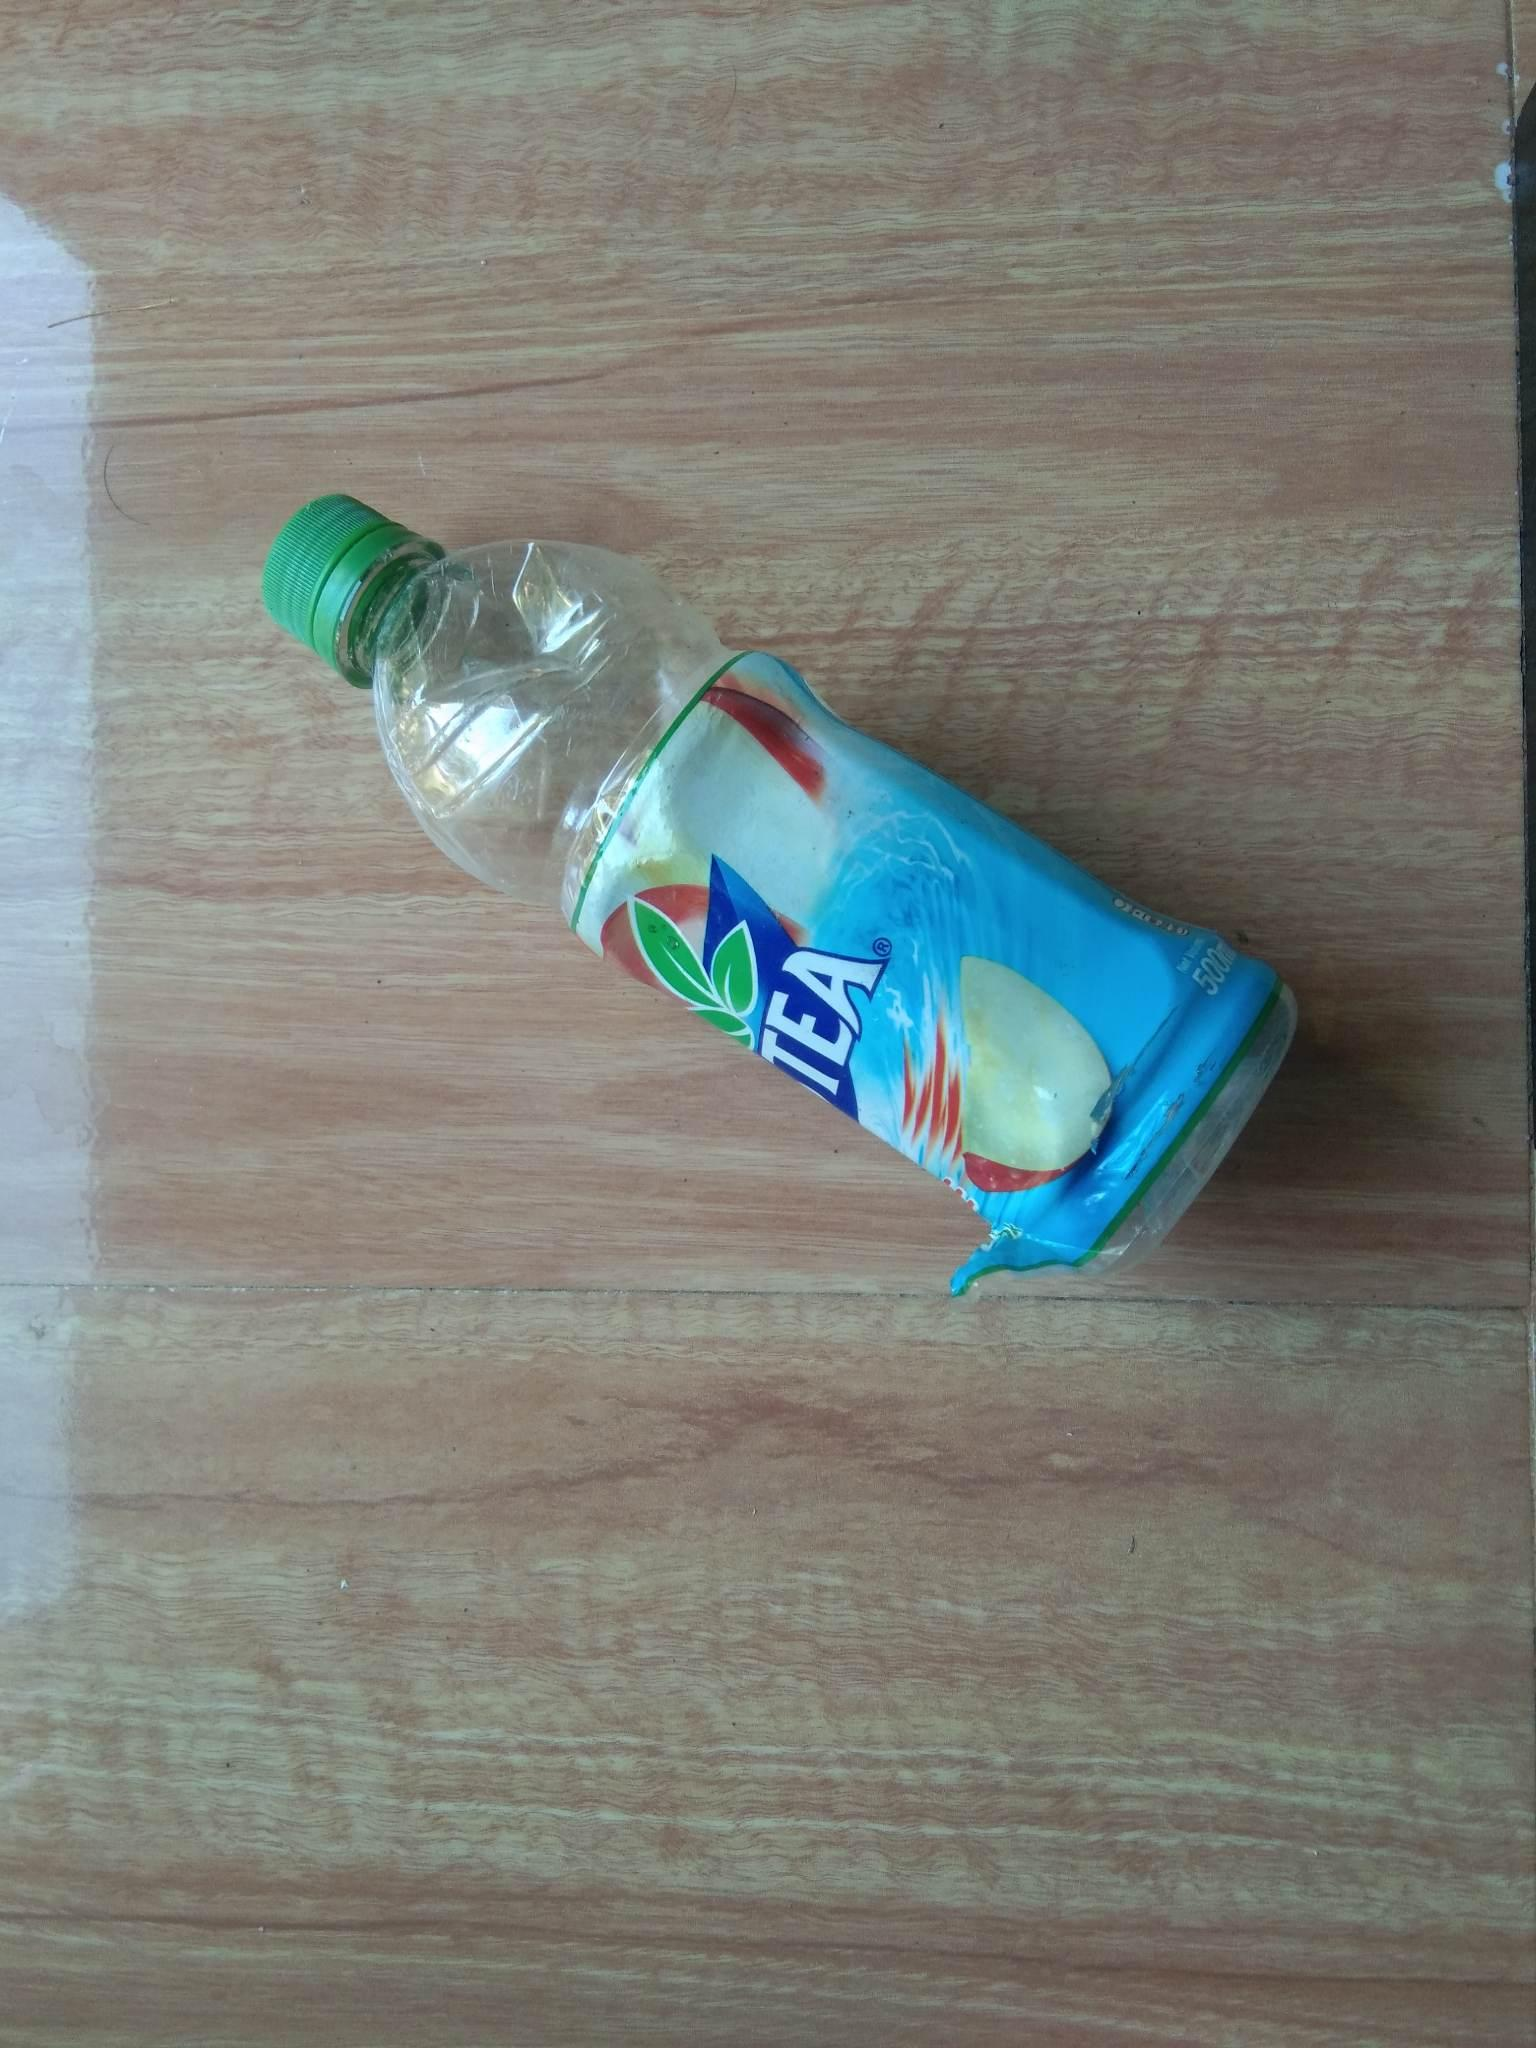plastic: (163, 406, 1420, 1388)
